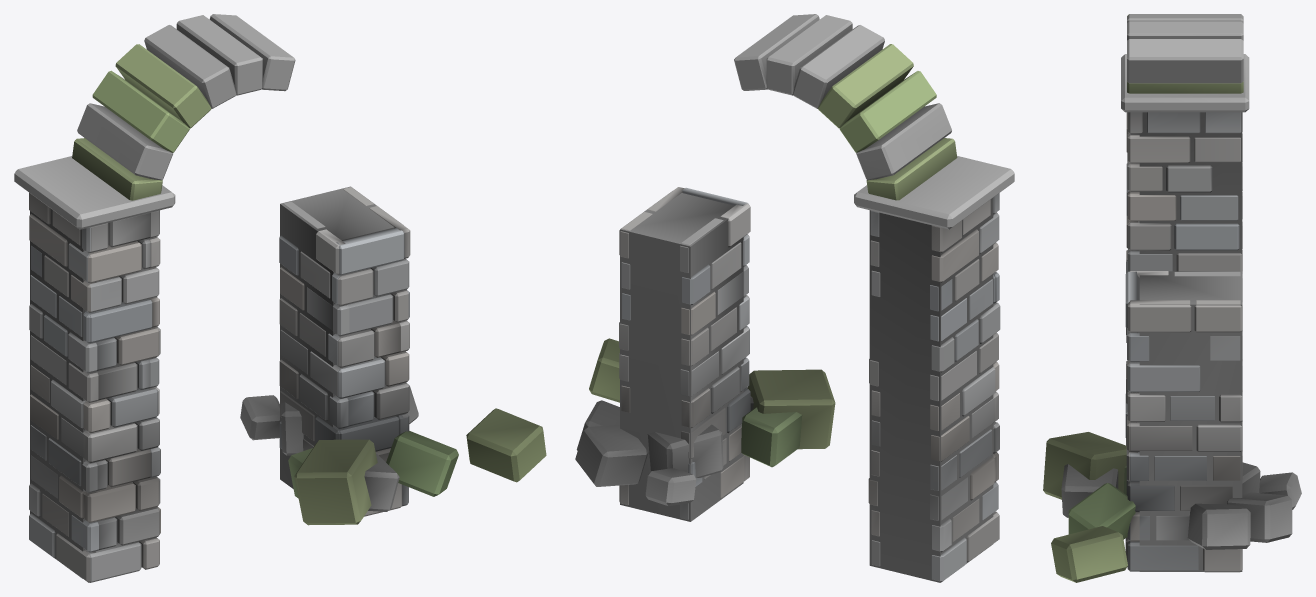
Rendered from HeroRuinArch.fbx.
3 views of the same model, side by side, from view 1: azimuth 30°, elevation 25°; view 2: azimuth 150°, elevation 25°; view 3: azimuth 270°, elevation 25° (orthographic). The views are drawn at different scales.
Visible parts, largest first — view 1: HeroRuinArch__Limestone; view 2: HeroRuinArch__Limestone; view 3: HeroRuinArch__Limestone.
Boxes of the visible parts, left/top/right/bottom form: HeroRuinArch__Limestone: left=14, top=14, right=546, bottom=582; HeroRuinArch__Limestone: left=575, top=14, right=1014, bottom=582; HeroRuinArch__Limestone: left=1043, top=14, right=1301, bottom=582.
Bounding box in the file's own units: 4.27 × 4.44 × 2.22.
